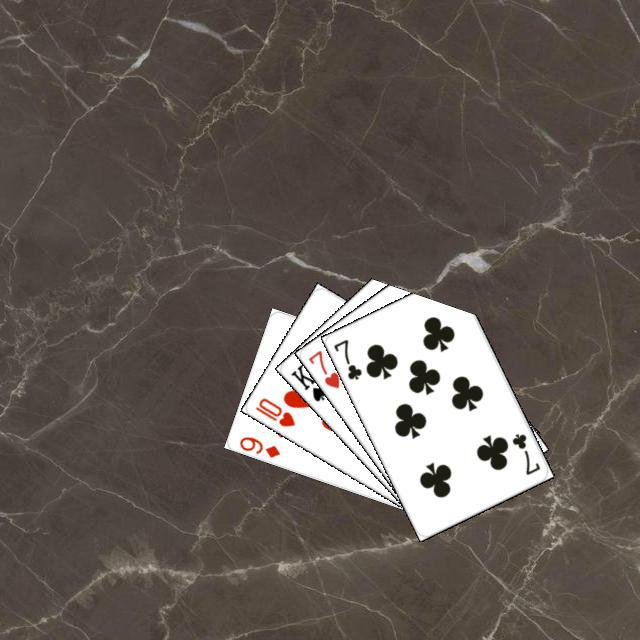10h: (250, 393, 297, 428)
7c: (328, 334, 364, 382), (507, 428, 542, 477)
7h: (303, 345, 341, 390)
9d: (234, 431, 282, 459)
Ks: (286, 359, 328, 403)
